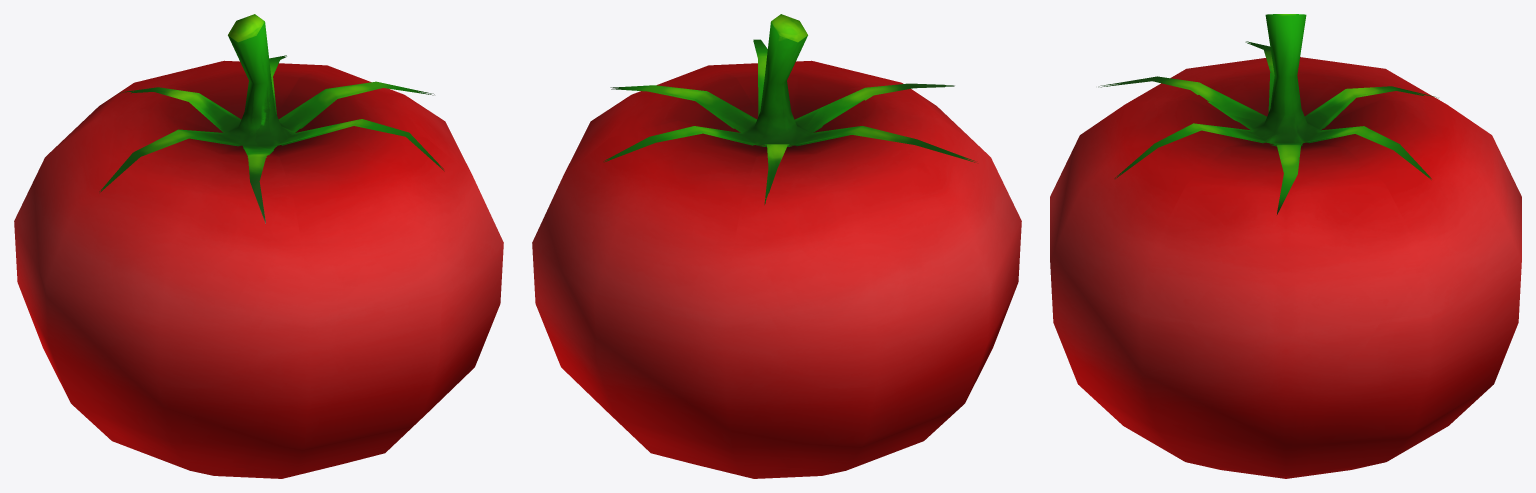
File: tomato.fbx
The picture shows the model from 3 angles, left to right: view 1: azimuth 30°, elevation 25°; view 2: azimuth 150°, elevation 25°; view 3: azimuth 270°, elevation 25°; orthographic projection.
Parts seen in each view (by area): view 1: tomato; view 2: tomato; view 3: tomato.
Boxes of the visible parts, x1=… form: tomato: x1=14, y1=14, x2=503, y2=478; tomato: x1=532, y1=14, x2=1021, y2=478; tomato: x1=1050, y1=14, x2=1521, y2=478.
Bounding box in the file's own units: 1.86 × 1.77 × 1.77.
